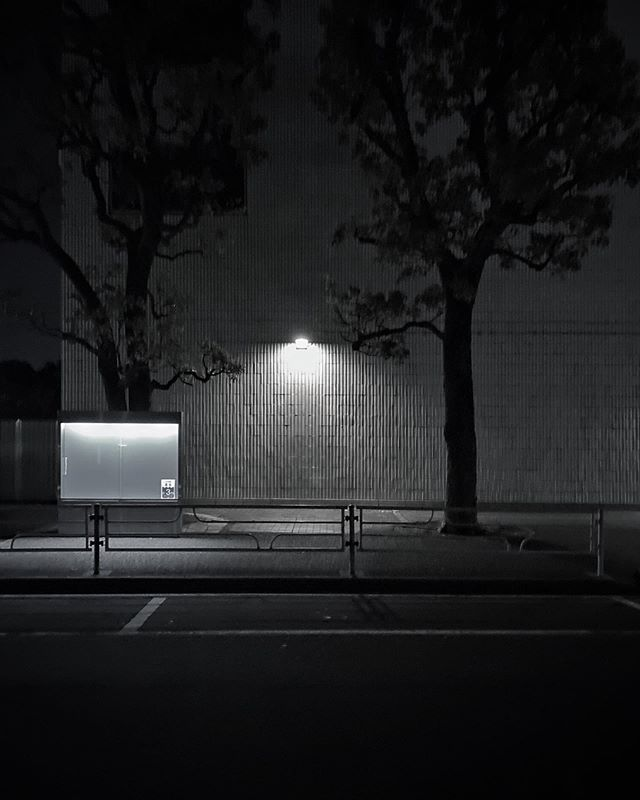street: (16, 578, 640, 800)
tree: (338, 1, 603, 513), (1, 1, 262, 443)
